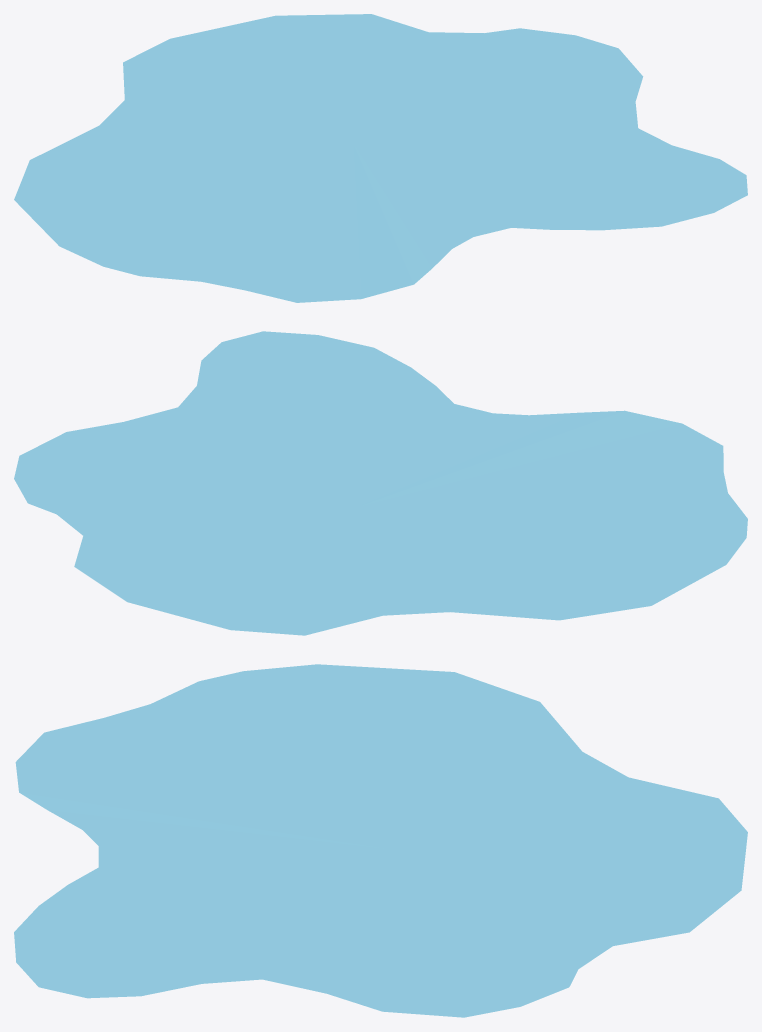
Rendered from PoolWater_01.fbx.
The picture shows the model from 3 angles, top to bottom: view 1: azimuth 30°, elevation 25°; view 2: azimuth 150°, elevation 25°; view 3: azimuth 270°, elevation 25°; orthographic projection. The views are drawn at different scales.
Parts seen in each view (by area): view 1: Plane011; view 2: Plane011; view 3: Plane011.
Boxes of the visible parts, box(x1,y1,x2,y2) form: Plane011: box(14, 14, 747, 302); Plane011: box(14, 331, 747, 635); Plane011: box(14, 664, 747, 1017).
Size of the model in its own units: 2908 by 1.3 by 2552.
